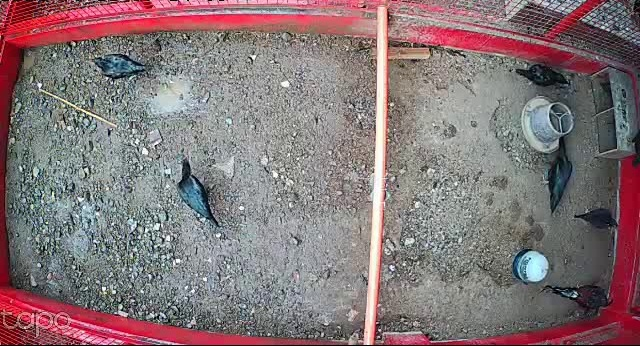Chicken: (173, 154, 221, 228), (541, 132, 574, 216), (510, 59, 572, 91), (85, 52, 149, 81), (567, 202, 622, 231)
Drinker: (510, 247, 551, 285)
Feeder: (520, 95, 574, 154)
Rooster: (542, 280, 614, 312)
